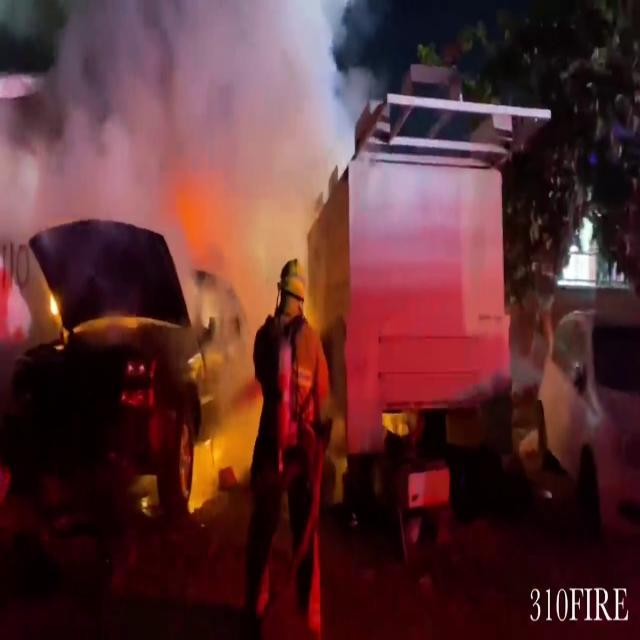Smoke: (0, 0, 363, 215)
